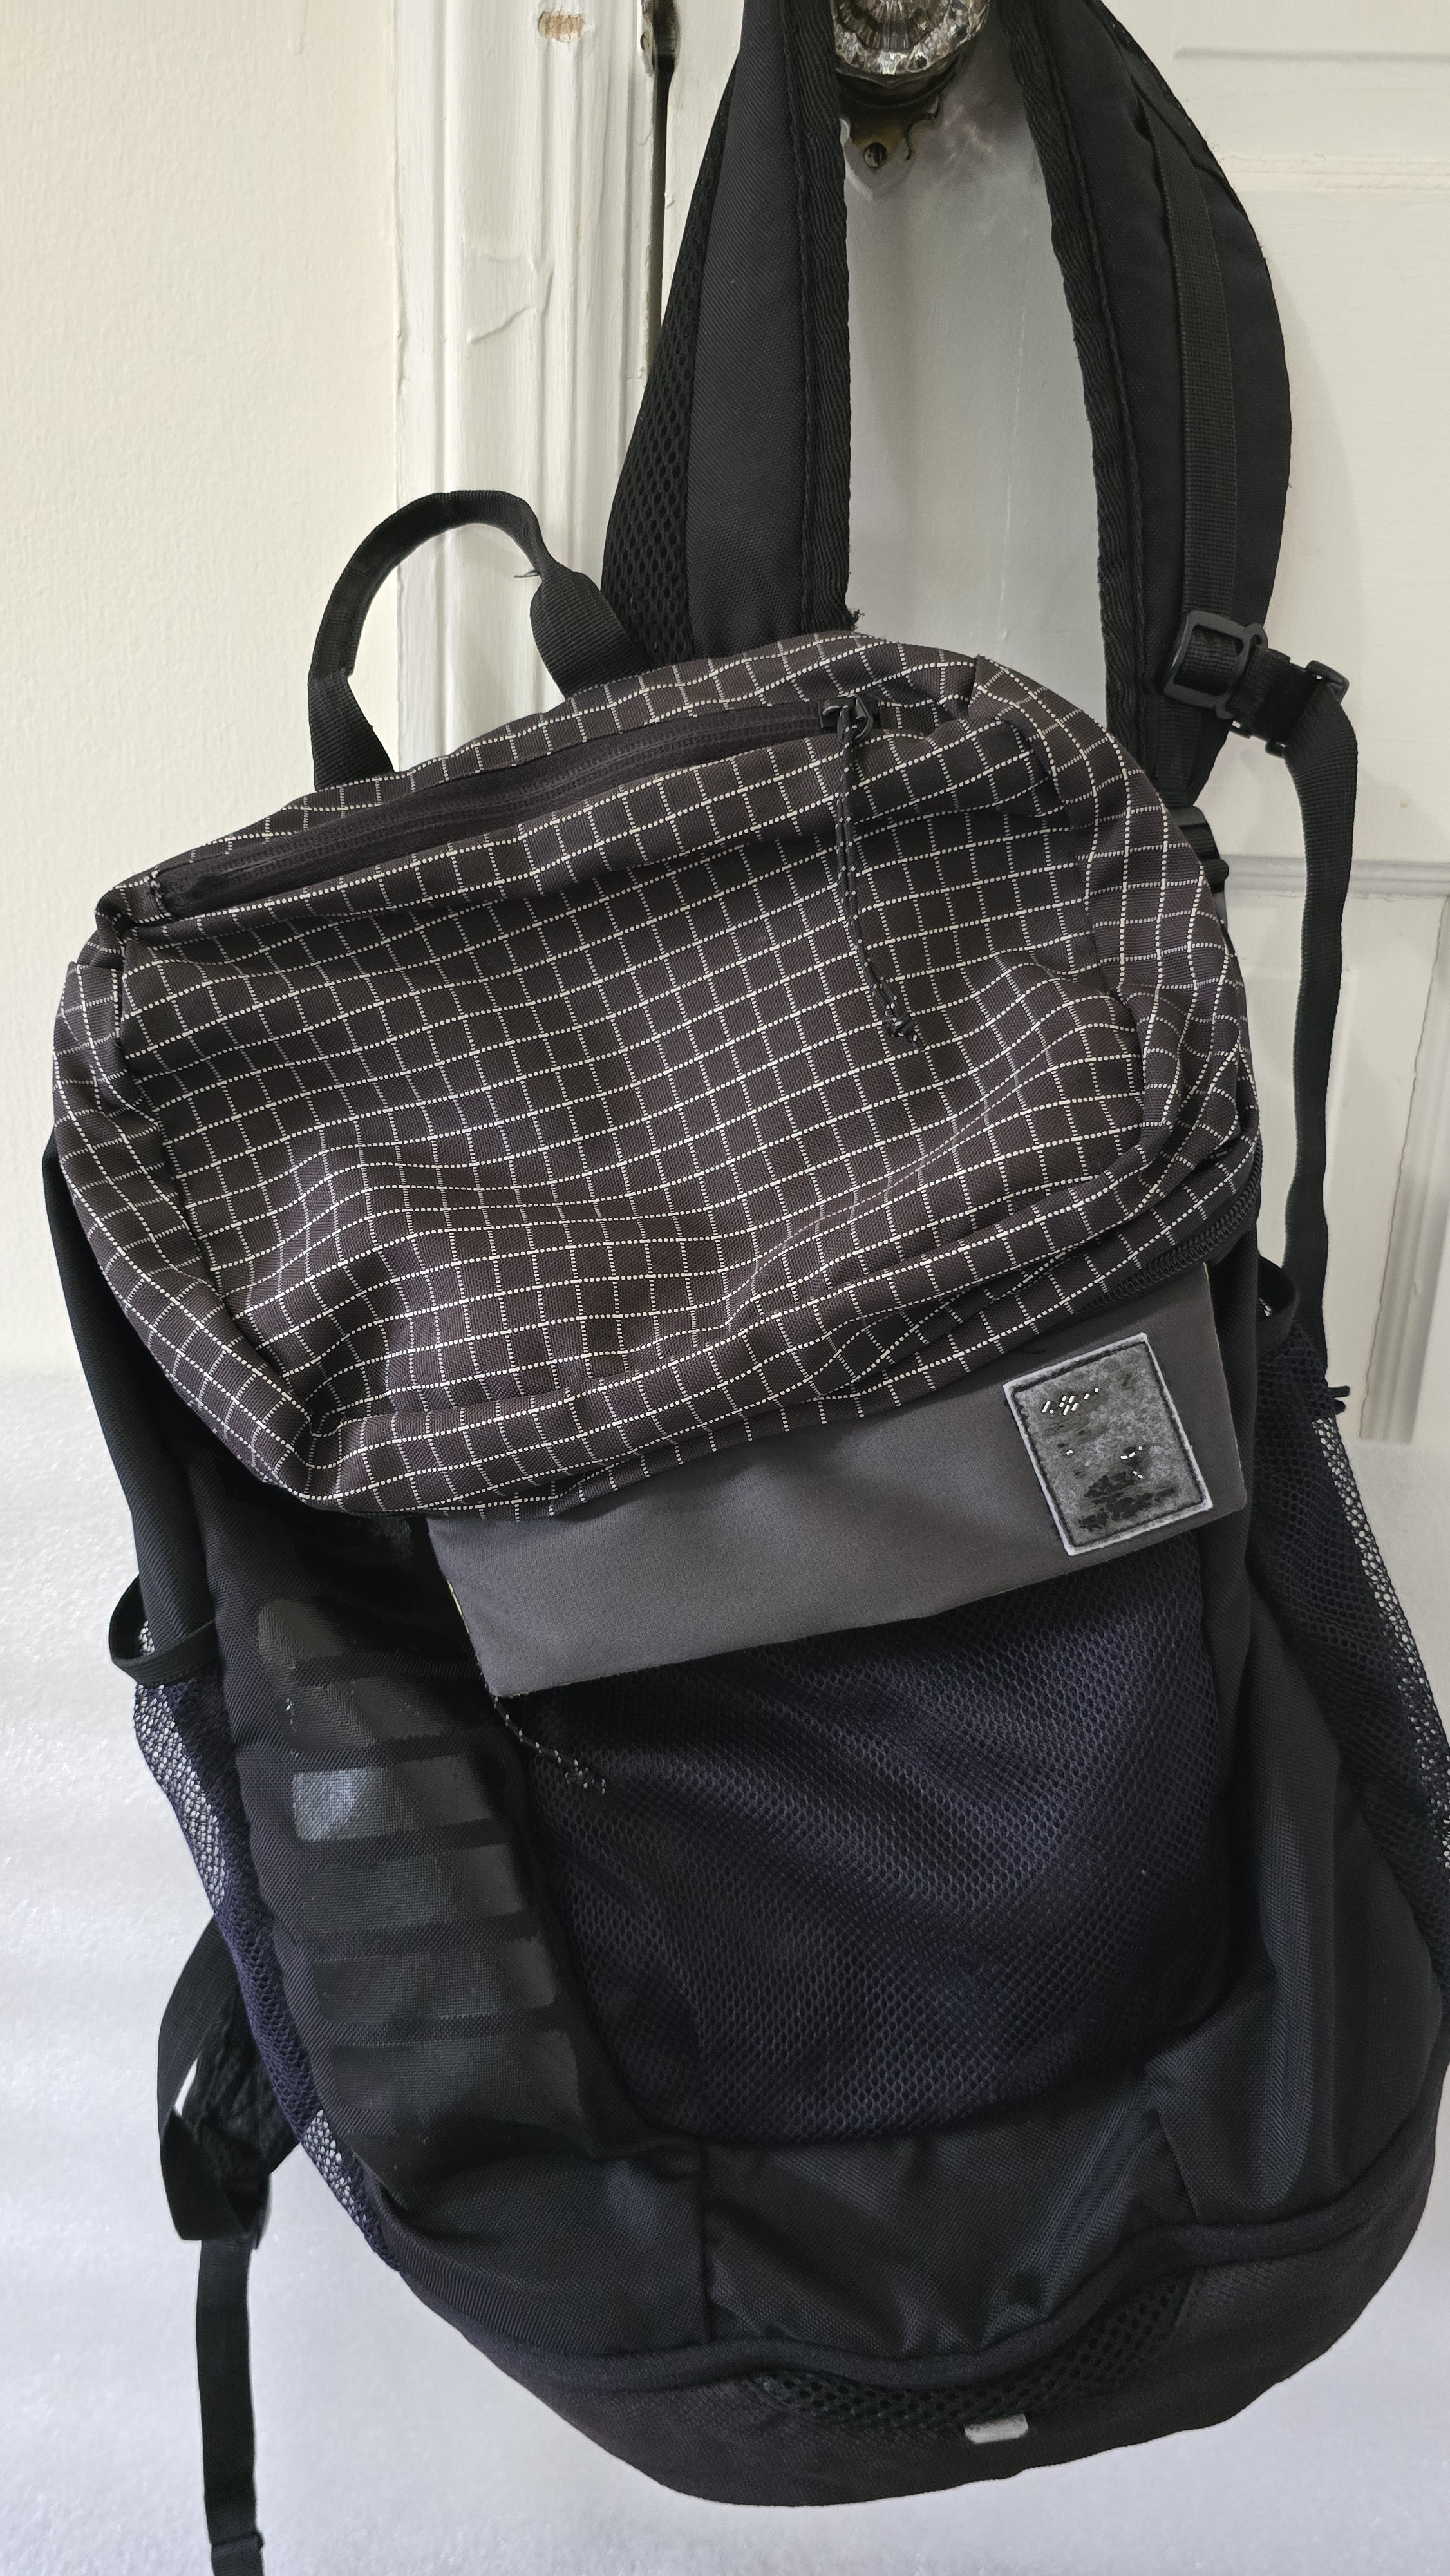bag: (34, 69, 1450, 2498)
